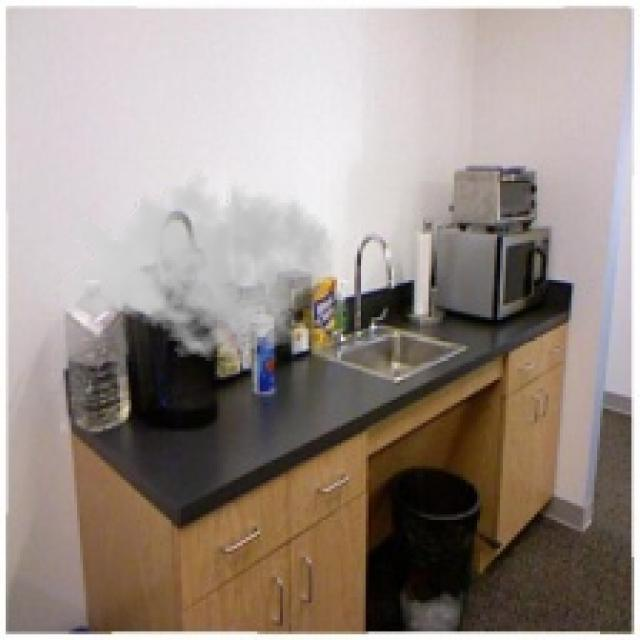Smoke: (54, 160, 334, 372)
